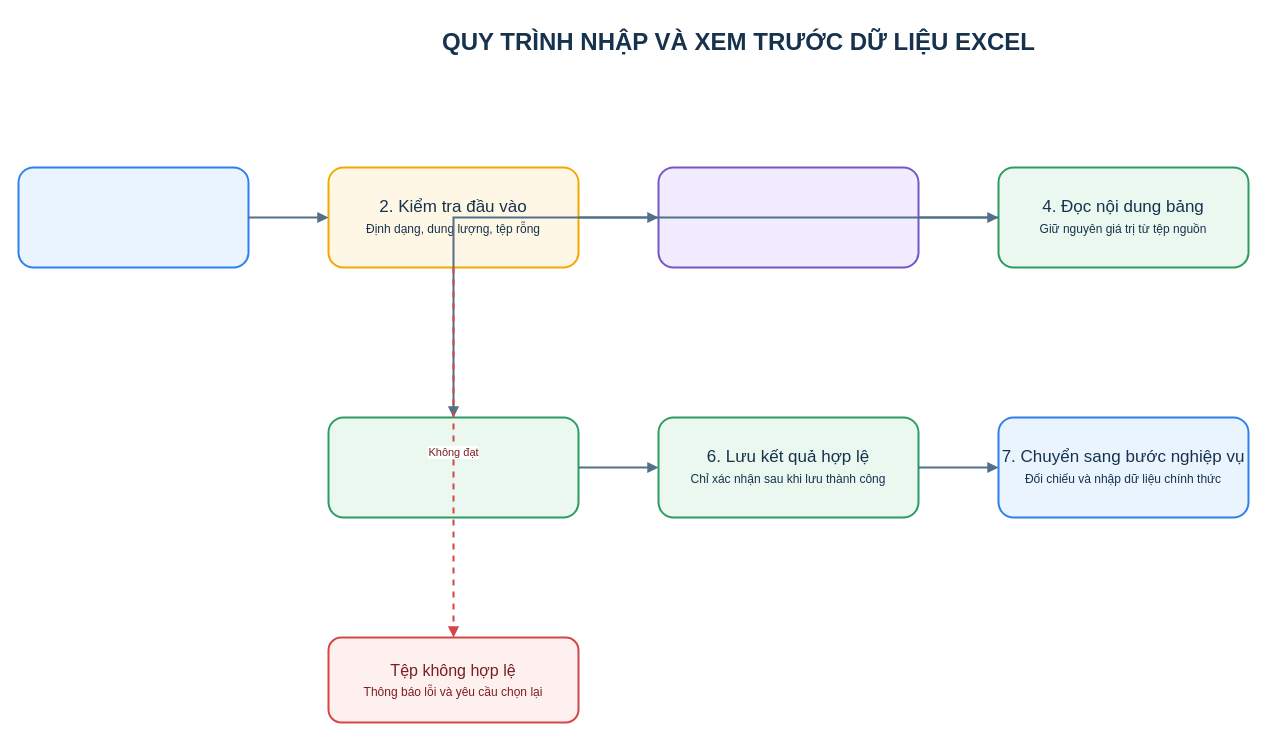
Some shapes in this 1266 by 740 pixel diagram are drawn without their labels. Here are the shapes that lost their labels. From the top down, the box of each, then its label:
(17, 166, 249, 268): 1. Chọn tệp Excel Chọn hoặc kéo thả tệp
(657, 166, 919, 268): 3. Xác định vùng bảng Nhận diện tiêu đề, dữ liệu và ô gộp
(327, 416, 579, 518): 5. Xem trước Bảng nhiều tầng, cuộn hai chiều, chỉ đọc
